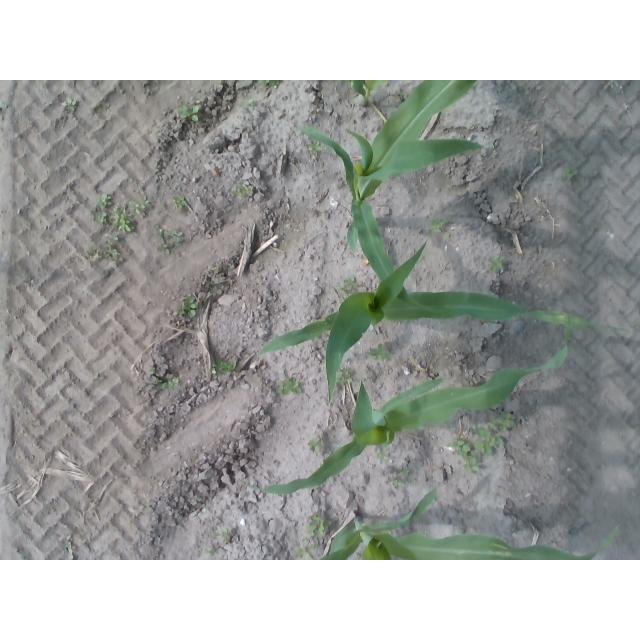Maize: (259, 241, 630, 412), (238, 313, 570, 494), (297, 80, 490, 313), (314, 488, 623, 561), (349, 81, 388, 108)
Weeds: (446, 413, 515, 474), (88, 188, 154, 233), (82, 235, 122, 266), (155, 222, 184, 255), (306, 513, 335, 543), (176, 297, 199, 320), (425, 218, 450, 239), (277, 377, 304, 396), (210, 360, 240, 377), (386, 468, 410, 489), (333, 276, 358, 293), (306, 434, 326, 455), (216, 524, 236, 545), (367, 343, 389, 361), (486, 255, 506, 274), (153, 375, 180, 389), (293, 546, 319, 560), (181, 104, 200, 123), (230, 184, 255, 198), (203, 277, 221, 295), (62, 98, 79, 115), (306, 140, 323, 157), (562, 167, 578, 185), (337, 370, 353, 387), (171, 194, 188, 210), (202, 546, 221, 558), (377, 446, 392, 460), (258, 80, 283, 88), (211, 265, 221, 275), (93, 106, 105, 114), (248, 98, 257, 106), (590, 171, 599, 178), (150, 367, 157, 376), (0, 100, 6, 109)
